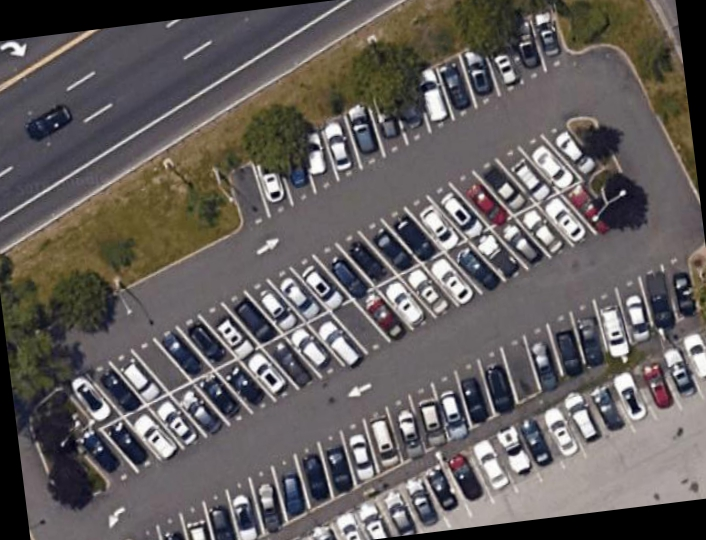parkingspot: (55, 117, 638, 491), (131, 246, 703, 540), (292, 325, 706, 540), (225, 0, 571, 235)
